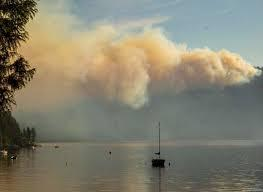yanwu: (24, 4, 258, 109)
